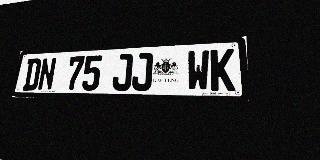5: (81, 55, 102, 91)
7: (64, 56, 85, 91)
D: (22, 58, 42, 91)
J: (131, 52, 153, 91), (112, 53, 133, 91)
K: (210, 48, 235, 91)
N: (37, 57, 57, 91)
W: (186, 50, 210, 91)
